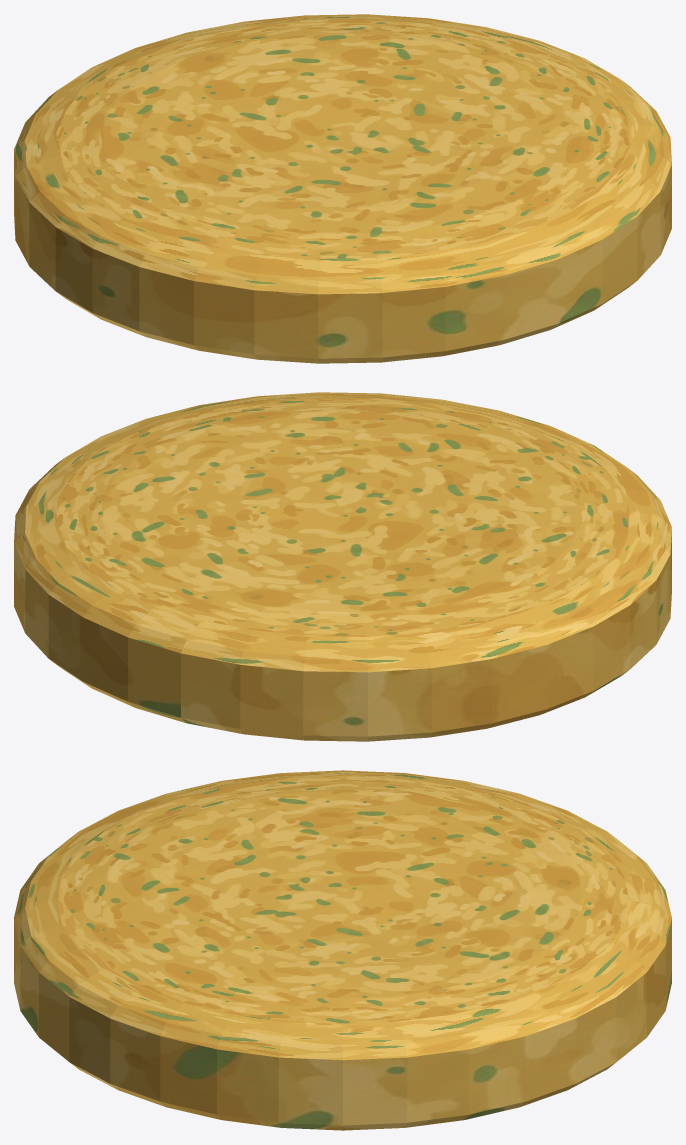
File: cha_com.fbx
3 renders of one model, top to bottom at view 1: azimuth 30°, elevation 25°; view 2: azimuth 150°, elevation 25°; view 3: azimuth 270°, elevation 25°, orthographic.
Visible parts, largest first — view 1: Cha Com.001; view 2: Cha Com.001; view 3: Cha Com.001.
Boxes of the visible parts, x1=… form: Cha Com.001: x1=14, y1=14, x2=671, y2=363; Cha Com.001: x1=14, y1=392, x2=671, y2=741; Cha Com.001: x1=14, y1=770, x2=671, y2=1130.
Bounding box in the file's own units: 14.77 × 2.81 × 14.42.
Materials: 1 (1 with a texture image).
